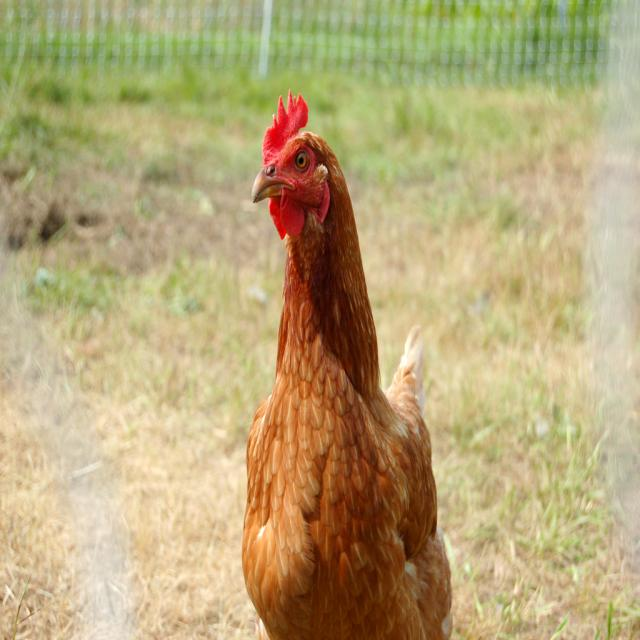Chicken: (233, 92, 452, 640)
